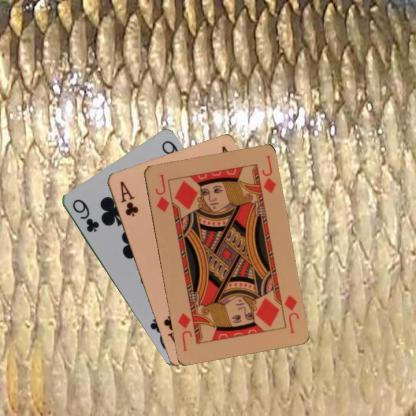9c: (70, 196, 100, 233)
Ac: (117, 178, 140, 218)
Jd: (277, 292, 300, 334), (152, 171, 170, 213)
